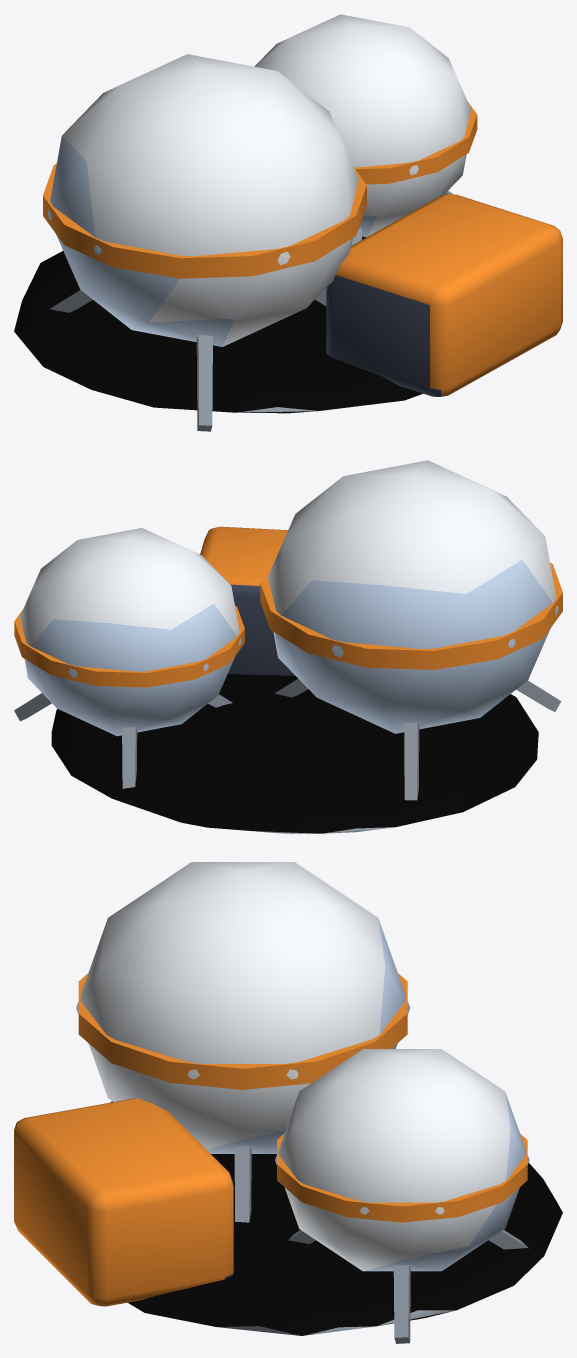
The model's file is SupplyPods.fbx.
3 views of the same model, one above another, from view 1: azimuth 30°, elevation 25°; view 2: azimuth 150°, elevation 25°; view 3: azimuth 270°, elevation 25° (orthographic). The views are drawn at different scales.
Visible parts, largest first — view 1: SupplyPods; view 2: SupplyPods; view 3: SupplyPods.
Part boxes in pixels (x1,y1,x2,y2): SupplyPods: (14, 14, 562, 431); SupplyPods: (14, 460, 562, 833); SupplyPods: (14, 862, 562, 1343).
Size of the model in its own units: 1.47 by 0.8343 by 1.38.
Materials: 1 (1 with a texture image).
